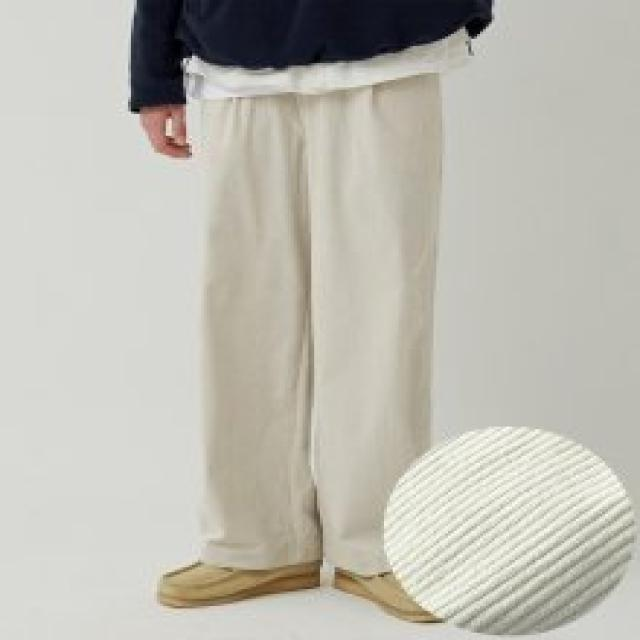long-pants: (180, 76, 443, 577)
